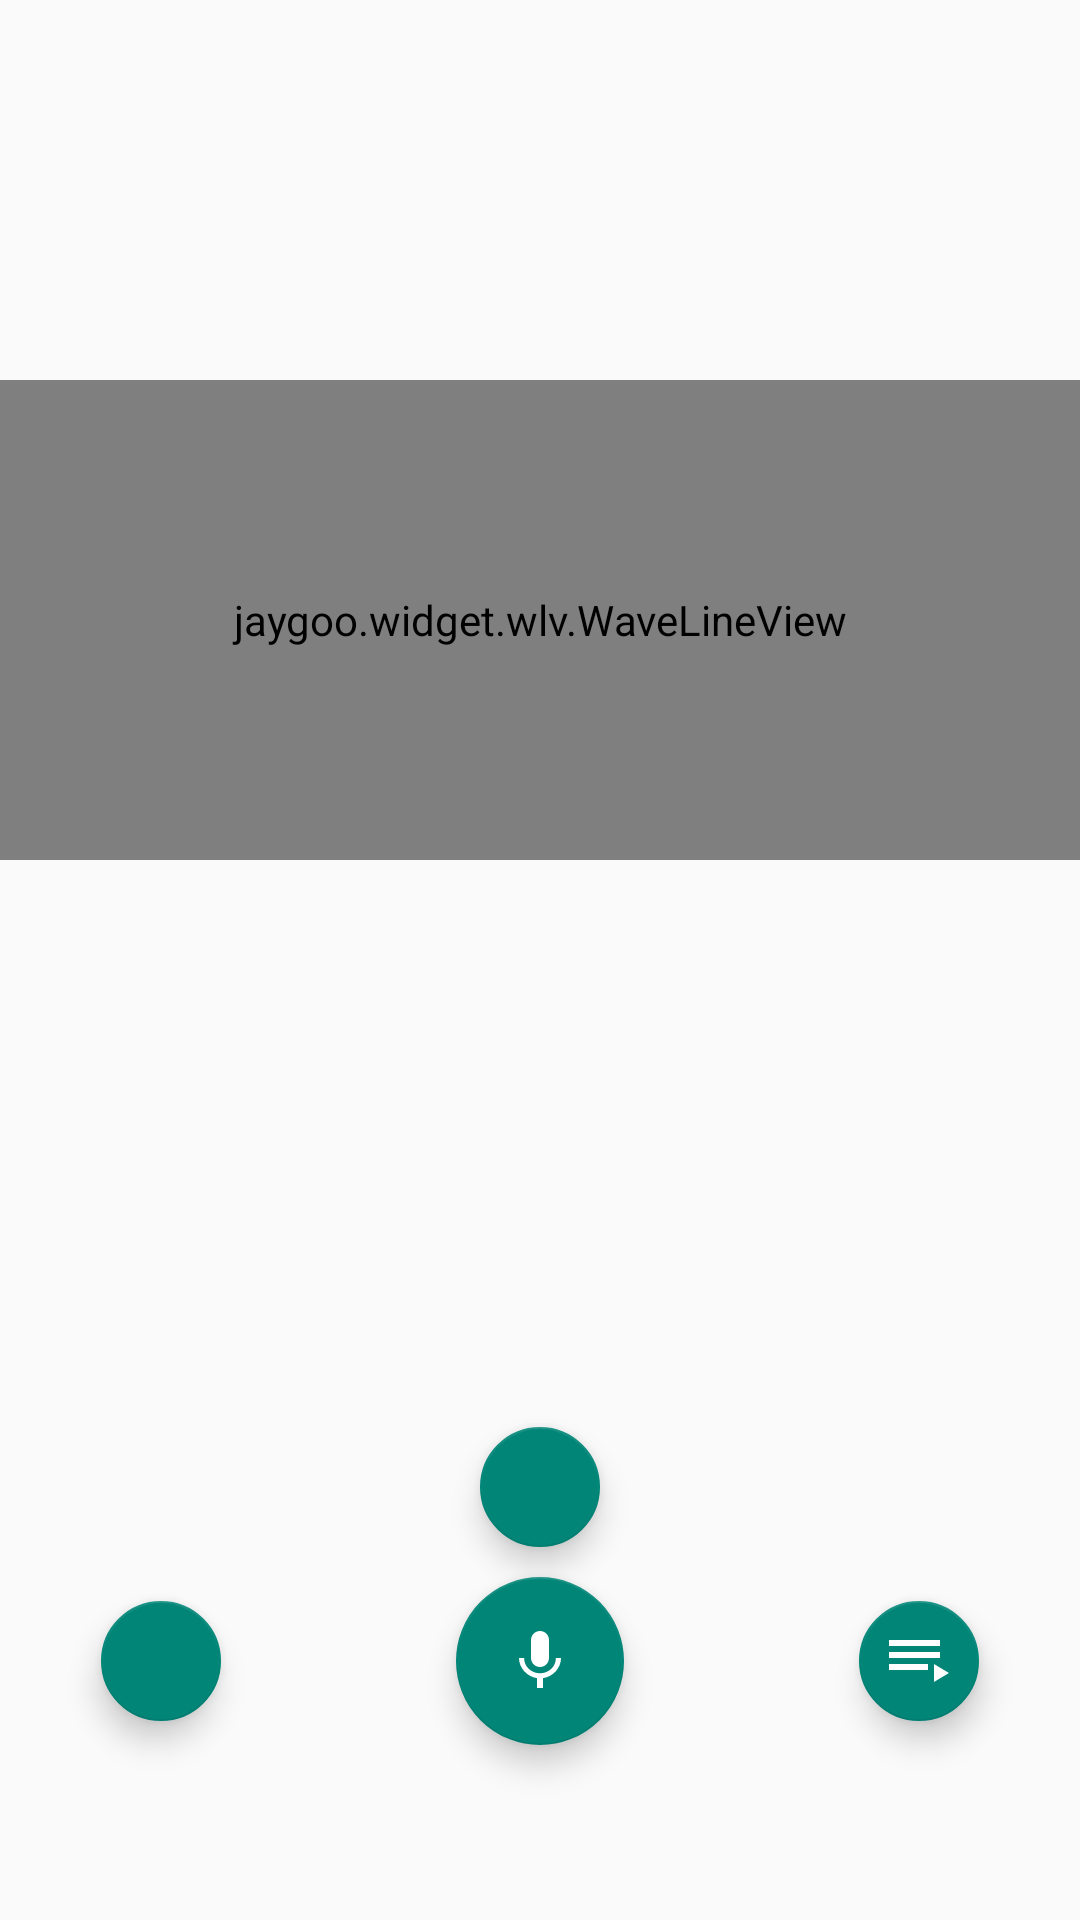

Where to tap for icons on this 1080 x 1920 app screen, as [x,y]:
playlist: [919,1661]
record: [540,1661]
